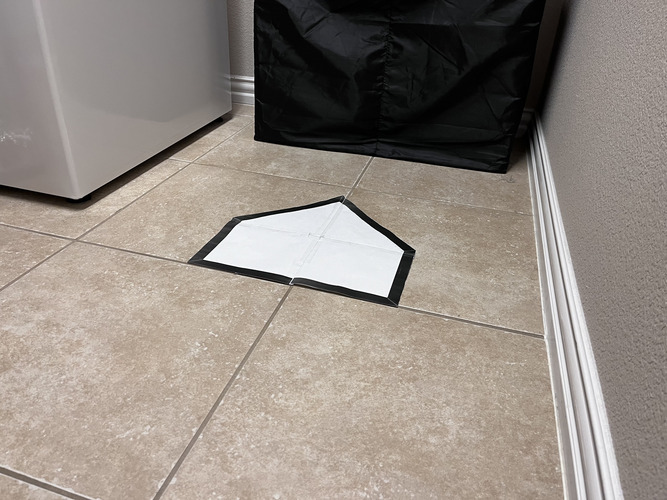homeplate: (189, 195, 415, 308)
